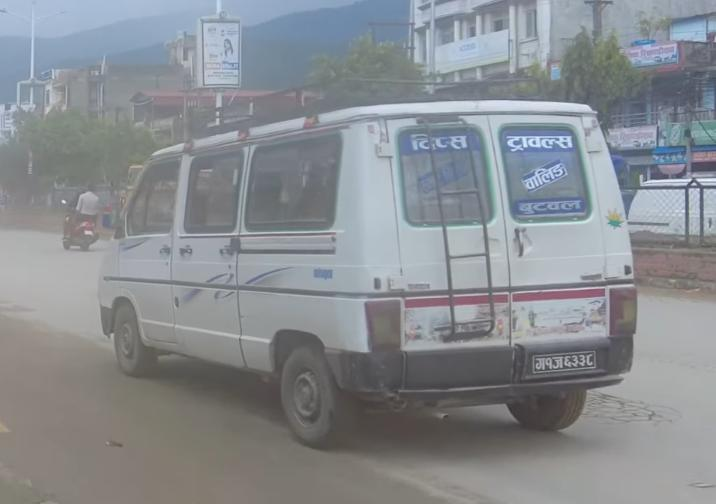micro_bus: (89, 85, 642, 456)
scooter: (51, 194, 101, 251)
